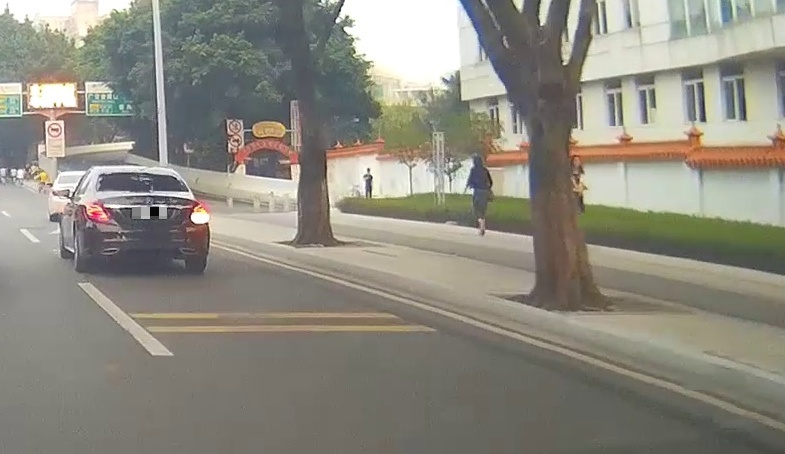L_light: (86, 202, 119, 227)
R_light: (182, 202, 210, 225)
T_light: (133, 172, 149, 177)
day-right: (80, 165, 210, 273)
plate_1: (132, 207, 167, 219)
